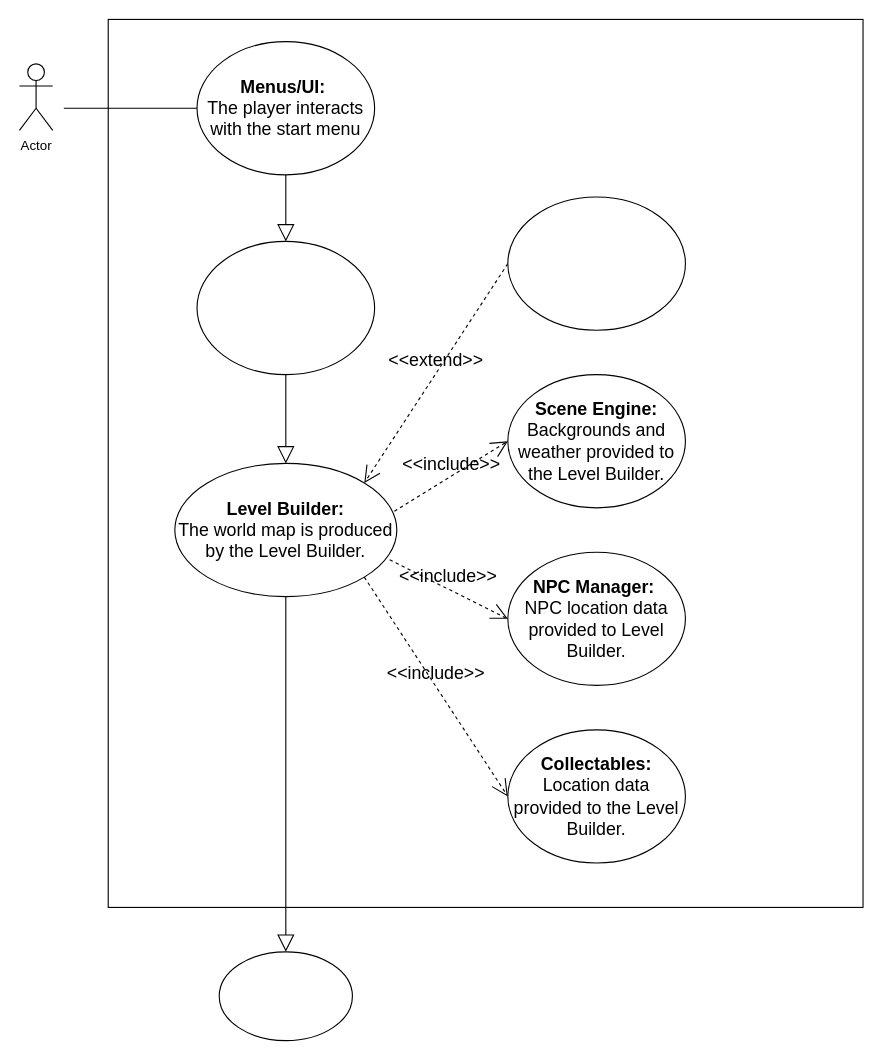
Image size: 882x1060. Some labels were removed from this diagram. The shapes that lost their labels are listed below. From the top down, each one's centre as x and y in pixels, then its label:
At (x=596, y=263): "Character Creator: Player chooses stats for their save game.".
At (x=285, y=307): "Save System: Player chooses new game or load game".
At (x=285, y=996): "A new game starts for the player.".
